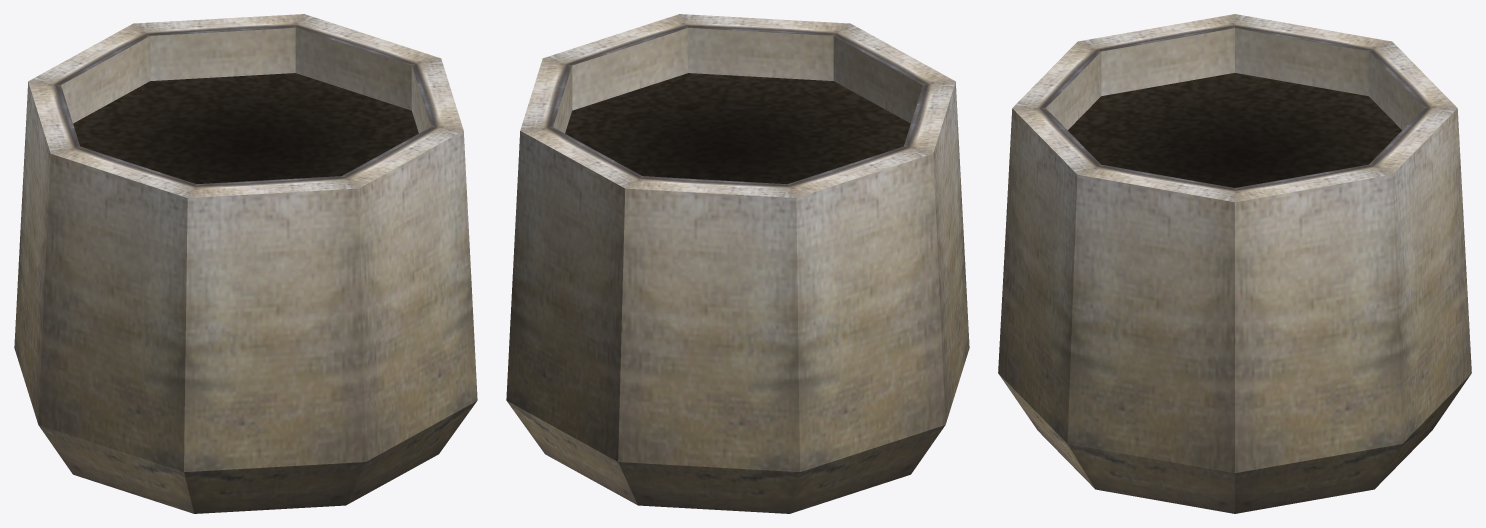
File: pot3.fbx
3 views of the same model, side by side, from view 1: azimuth 30°, elevation 25°; view 2: azimuth 150°, elevation 25°; view 3: azimuth 270°, elevation 25° (orthographic).
Parts seen in each view (by area): view 1: pot3; view 2: pot3; view 3: pot3.
Part boxes in pixels (bbox=[...]): pot3: bbox=[14, 14, 477, 513]; pot3: bbox=[506, 14, 969, 513]; pot3: bbox=[998, 14, 1471, 513].
Size of the model in its own units: 35.59 by 26.73 by 35.59.
1 material, 1 textured.
